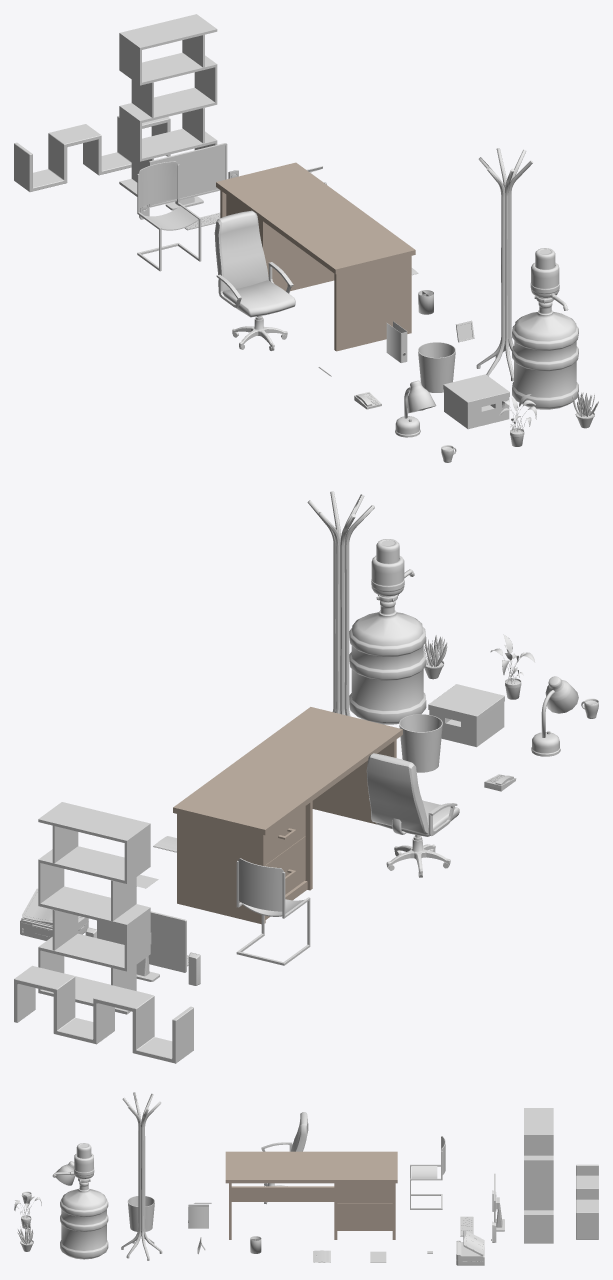
Rendered from OfficeStuff.fbx.
3 renders of one model, top to bottom at view 1: azimuth 30°, elevation 25°; view 2: azimuth 150°, elevation 25°; view 3: azimuth 270°, elevation 25°, orthographic. The views are drawn at different scales.
Parts seen in each view (by area): view 1: Desk, Bookshelf1, WaterDispencer, OfficeChair, Bookshelf2, Chair, ClothesHanger, OfficeBox, Monitor, TrashCan, DeskLamp, FolderBig (+1 smaller); view 2: Desk, Bookshelf1, WaterDispencer, Bookshelf2, OfficeChair, ClothesHanger, OfficeBox, Chair, Monitor, TrashCan, DeskLamp, PlantPot2 (+1 smaller); view 3: Desk, Bookshelf1, WaterDispencer, Bookshelf2, ClothesHanger, Chair, TrashCan, OfficeChair, FolderBig, Printer, PrinterCover, PlantPot2 (+4 smaller).
Part boxes in pixels (x1,y1,x2,y2): Desk: (216, 162, 415, 351); Bookshelf1: (119, 14, 217, 196); WaterDispencer: (512, 248, 578, 409); OfficeChair: (214, 210, 295, 350); Bookshelf2: (14, 116, 170, 191); Chair: (137, 161, 201, 271); ClothesHanger: (476, 148, 533, 381); OfficeBox: (443, 374, 509, 429); Monitor: (149, 143, 227, 210); TrashCan: (418, 342, 455, 392); DeskLamp: (395, 380, 436, 437); FolderBig: (386, 321, 407, 362); Desk: (173, 707, 402, 924); Bookshelf1: (38, 802, 150, 1014); WaterDispencer: (349, 539, 426, 724); Bookshelf2: (14, 965, 193, 1063); OfficeChair: (366, 753, 459, 877); ClothesHanger: (307, 491, 374, 716); OfficeBox: (428, 684, 504, 747); Chair: (236, 858, 310, 965); Monitor: (97, 911, 186, 981); TrashCan: (399, 714, 442, 772); DeskLamp: (531, 676, 578, 756); PlantPot2: (490, 634, 535, 699); Desk: (225, 1151, 397, 1239); Bookshelf1: (524, 1108, 553, 1243); WaterDispencer: (52, 1143, 108, 1259); Bookshelf2: (576, 1164, 598, 1239); ClothesHanger: (121, 1092, 162, 1260); Chair: (410, 1136, 445, 1209); TrashCan: (127, 1196, 154, 1231); OfficeChair: (261, 1112, 308, 1204); FolderBig: (188, 1204, 208, 1228); Printer: (456, 1240, 484, 1265); PrinterCover: (463, 1230, 484, 1255); PlantPot2: (14, 1194, 41, 1228).
Size of the model in its own units: 3.27 by 2.95 by 10.23.
